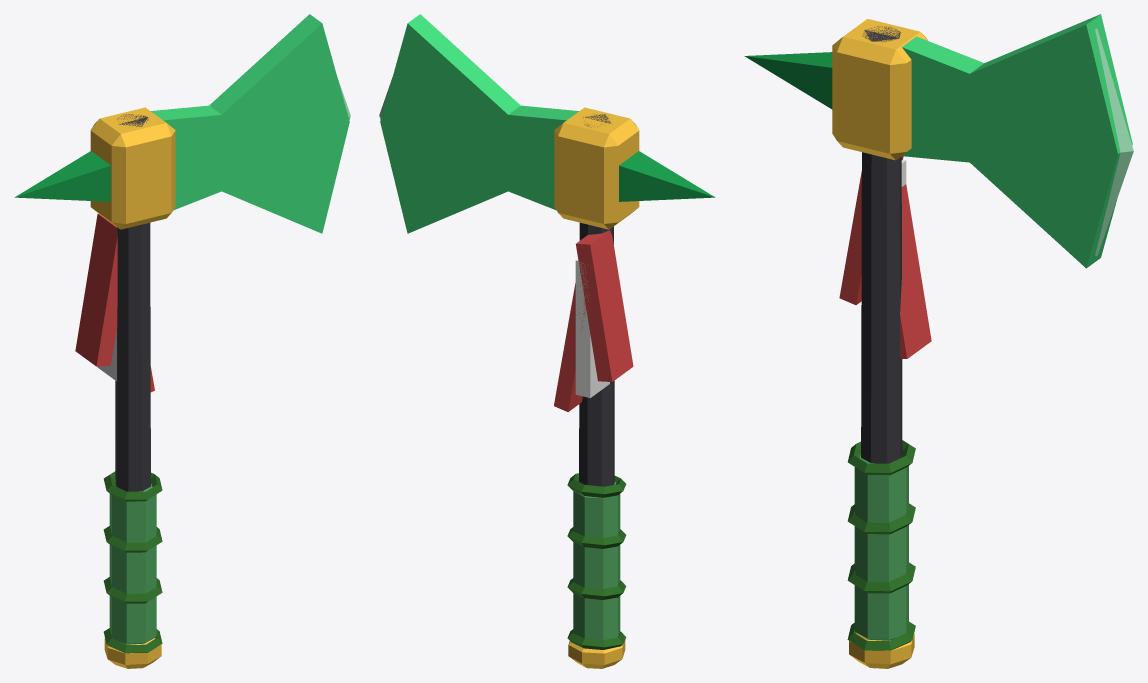
File: EmeraldTomahawk.fbx
3 views of the same model, side by side, from view 1: azimuth 30°, elevation 25°; view 2: azimuth 150°, elevation 25°; view 3: azimuth 330°, elevation 25° (orthographic). The views are drawn at different scales.
Visible parts, largest first — view 1: EmeraldTomahawk; view 2: EmeraldTomahawk; view 3: EmeraldTomahawk.
Boxes of the visible parts, <box> form: EmeraldTomahawk: <box>14,14,350,668</box>; EmeraldTomahawk: <box>379,14,715,668</box>; EmeraldTomahawk: <box>744,14,1133,668</box>.
Bounding box in the file's own units: 1.84 × 3.12 × 0.35.
1 material, 1 textured.
